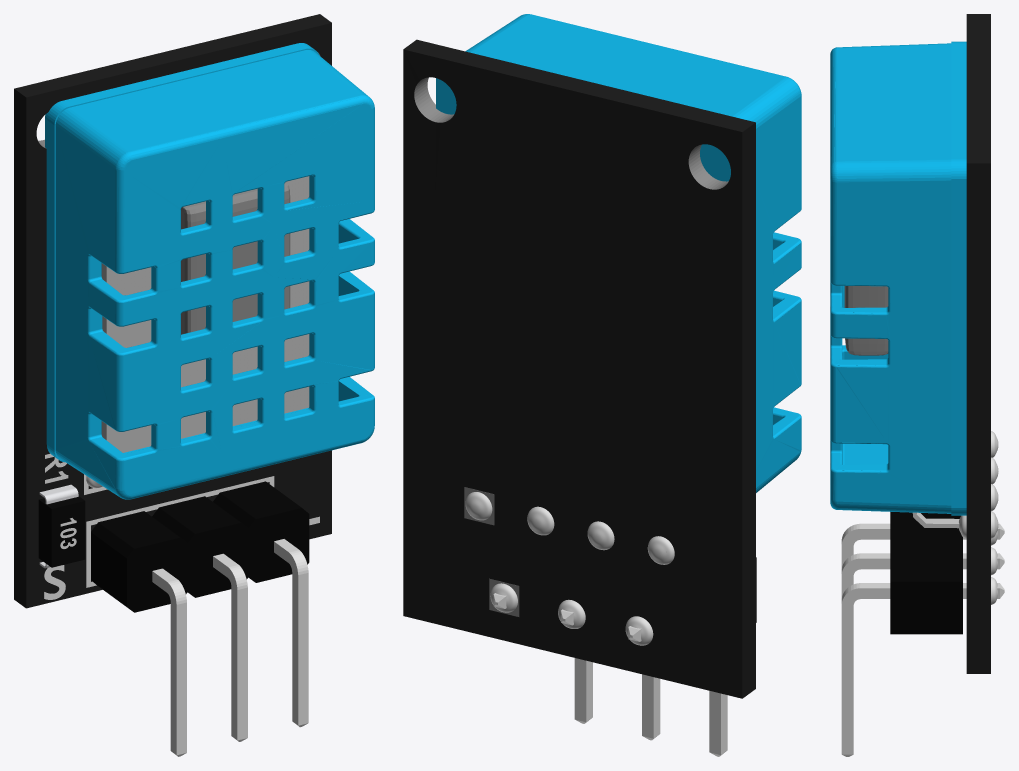
The model's file is dht11.glb.
3 views of the same model, side by side, from view 1: azimuth 30°, elevation 25°; view 2: azimuth 150°, elevation 25°; view 3: azimuth 270°, elevation 25° (orthographic). The views are drawn at different scales.
Parts seen in each view (by area): view 1: Plastico_azul-material (×2), cor_placa-material (×2), plastico_preto-material, metal-material, zinza-material, aluminio-material, plastico_preto_002-material, letras-material; view 2: cor_placa-material (×2), Plastico_azul-material (×2), metal-material (×2), aluminio-material; view 3: Plastico_azul-material (×2), cor_placa-material, plastico_preto-material, metal-material (×2), aluminio-material, pino_metal-material.
Part boxes in pixels (x1=…): Plastico_azul-material (×2): x1=45, y1=43, x2=374, y2=499; cor_placa-material (×2): x1=14, y1=14, x2=331, y2=608; plastico_preto-material: x1=91, y1=481, x2=309, y2=612; metal-material: x1=152, y1=539, x2=308, y2=756; zinza-material: x1=101, y1=176, x2=309, y2=452; aluminio-material: x1=181, y1=182, x2=290, y2=334; plastico_preto_002-material: x1=38, y1=496, x2=85, y2=567; letras-material: x1=44, y1=474, x2=319, y2=599; cor_placa-material (×2): x1=403, y1=39, x2=755, y2=698; Plastico_azul-material (×2): x1=436, y1=14, x2=801, y2=492; metal-material (×2): x1=465, y1=492, x2=727, y2=756; aluminio-material: x1=414, y1=77, x2=728, y2=189; Plastico_azul-material (×2): x1=830, y1=41, x2=966, y2=515; cor_placa-material: x1=966, y1=14, x2=990, y2=673; plastico_preto-material: x1=890, y1=512, x2=962, y2=634; metal-material (×2): x1=841, y1=431, x2=1004, y2=756; aluminio-material: x1=844, y1=286, x2=888, y2=355; pino_metal-material: x1=912, y1=512, x2=959, y2=528.
Bounding box in the file's own units: 0.0146 × 0.0291 × 0.00721.
